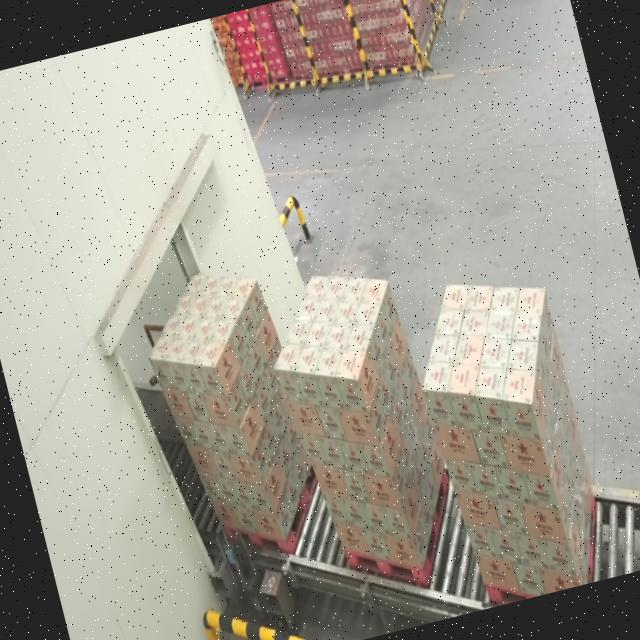pallet: (249, 244, 478, 622), (398, 262, 624, 611), (122, 248, 342, 584)
